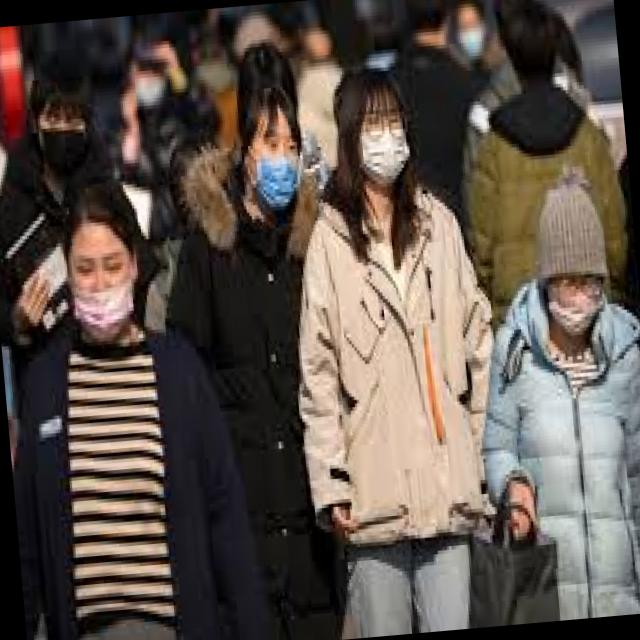Jacket: (268, 177, 518, 596), (3, 318, 273, 640), (162, 172, 338, 564), (468, 288, 640, 626), (457, 73, 635, 355)
